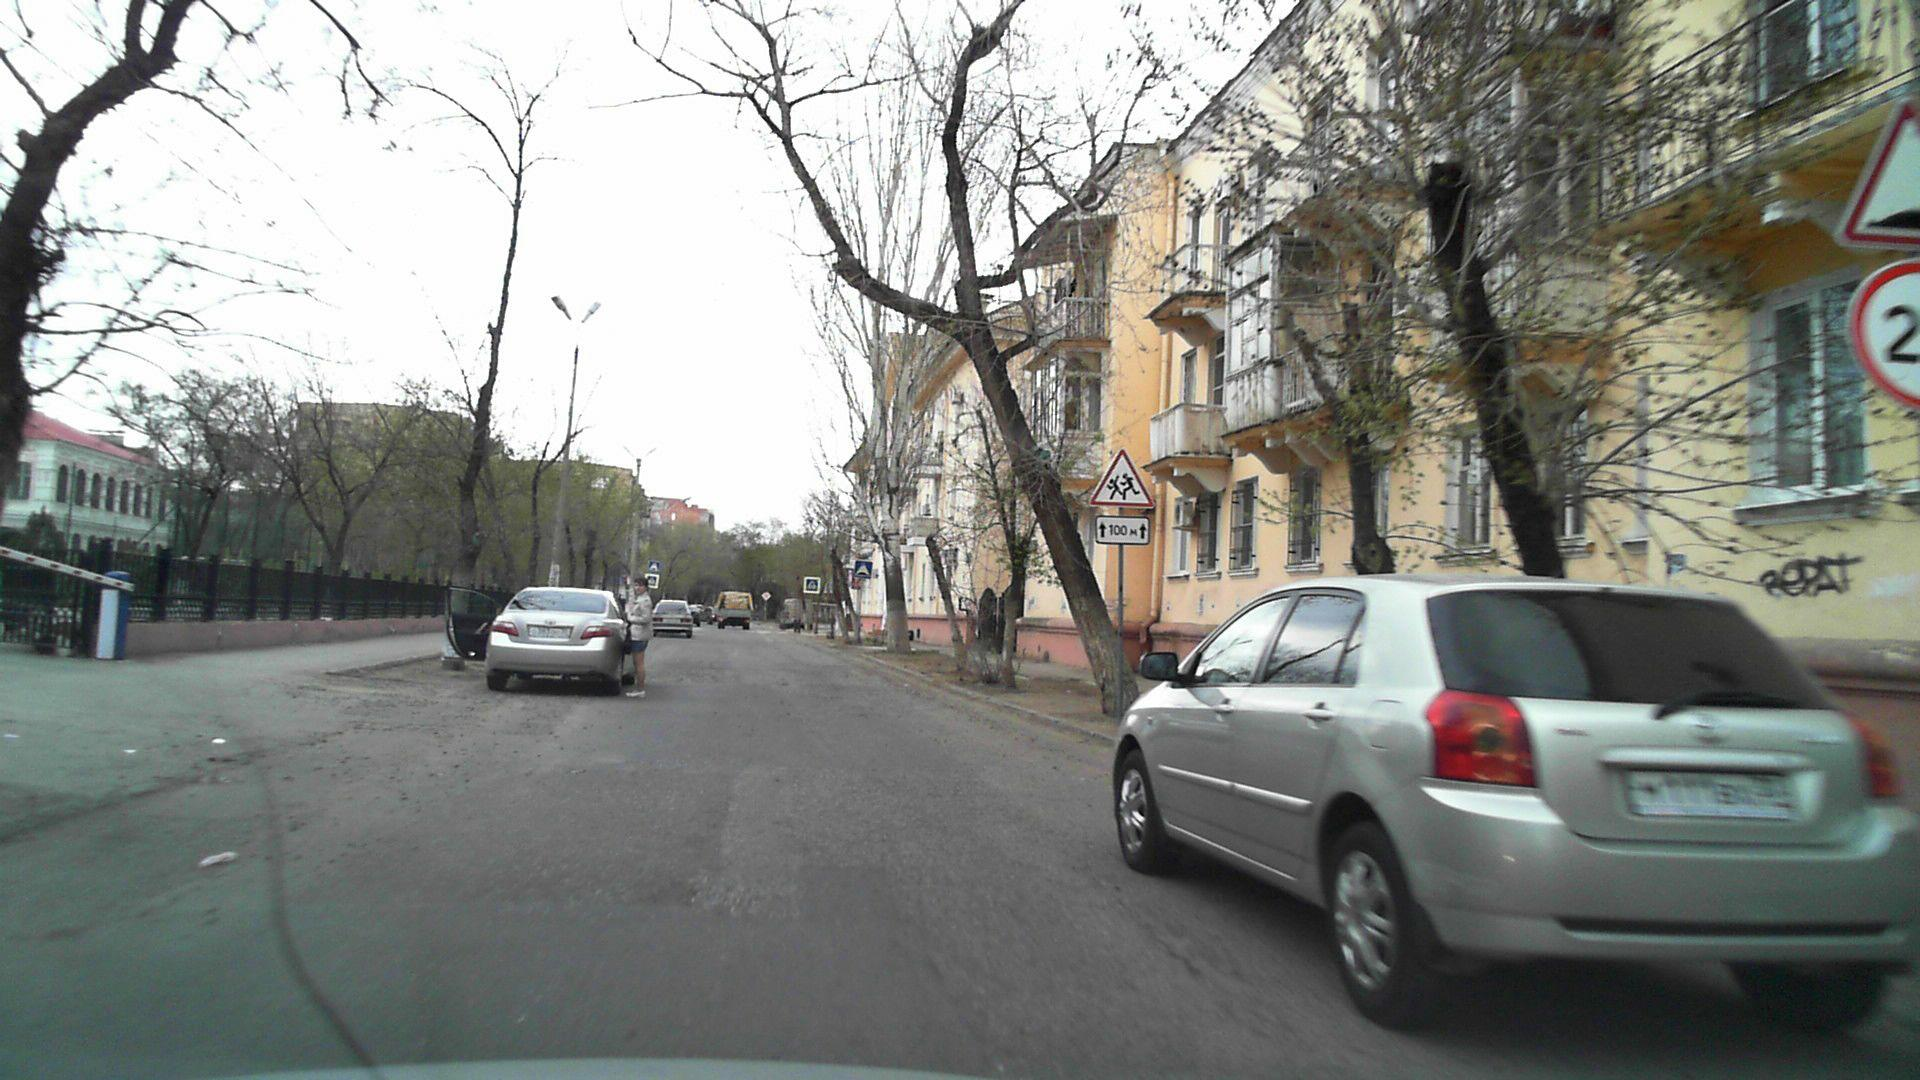1_17: (1844, 88, 1920, 240)
1_23: (1089, 447, 1154, 505)
2_1: (761, 589, 773, 603)
3_24: (1846, 252, 1920, 414)
5_19_1: (803, 576, 820, 593)
5_19_2: (649, 575, 658, 585)
5_20: (852, 558, 872, 582), (649, 560, 659, 572)
8_2_1: (1095, 516, 1153, 545)
